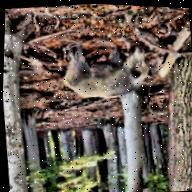boar: (57, 30, 154, 106)
